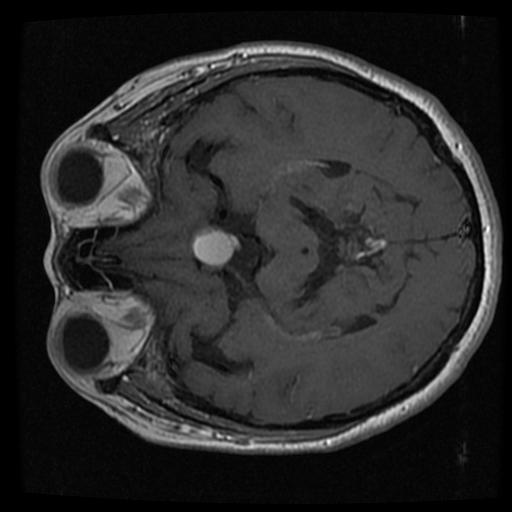pituitary tumour: (191, 227, 237, 264)
